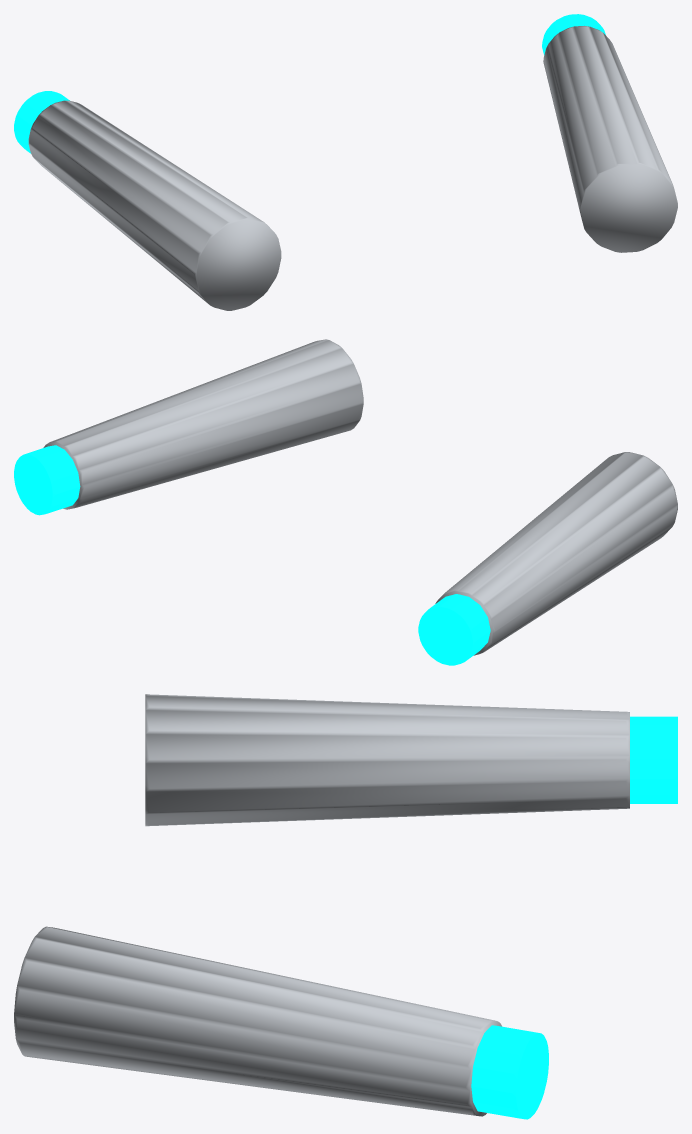
File: assembly_06_EnginePod0.glb
3 renders of one model, top to bottom at view 1: azimuth 30°, elevation 25°; view 2: azimuth 150°, elevation 25°; view 3: azimuth 270°, elevation 25°, orthographic. The views are drawn at different scales.
Visible parts, largest first — view 1: assembly_06_EnginePod0_gltf_export_temp; view 2: assembly_06_EnginePod0_gltf_export_temp; view 3: assembly_06_EnginePod0_gltf_export_temp.
Boxes of the visible parts, x1,y1,x2,y2 form: assembly_06_EnginePod0_gltf_export_temp: [14, 14, 677, 310]; assembly_06_EnginePod0_gltf_export_temp: [14, 339, 677, 665]; assembly_06_EnginePod0_gltf_export_temp: [14, 694, 677, 1119].
Size of the model in its own units: 2.27 by 0.3489 by 1.76.
